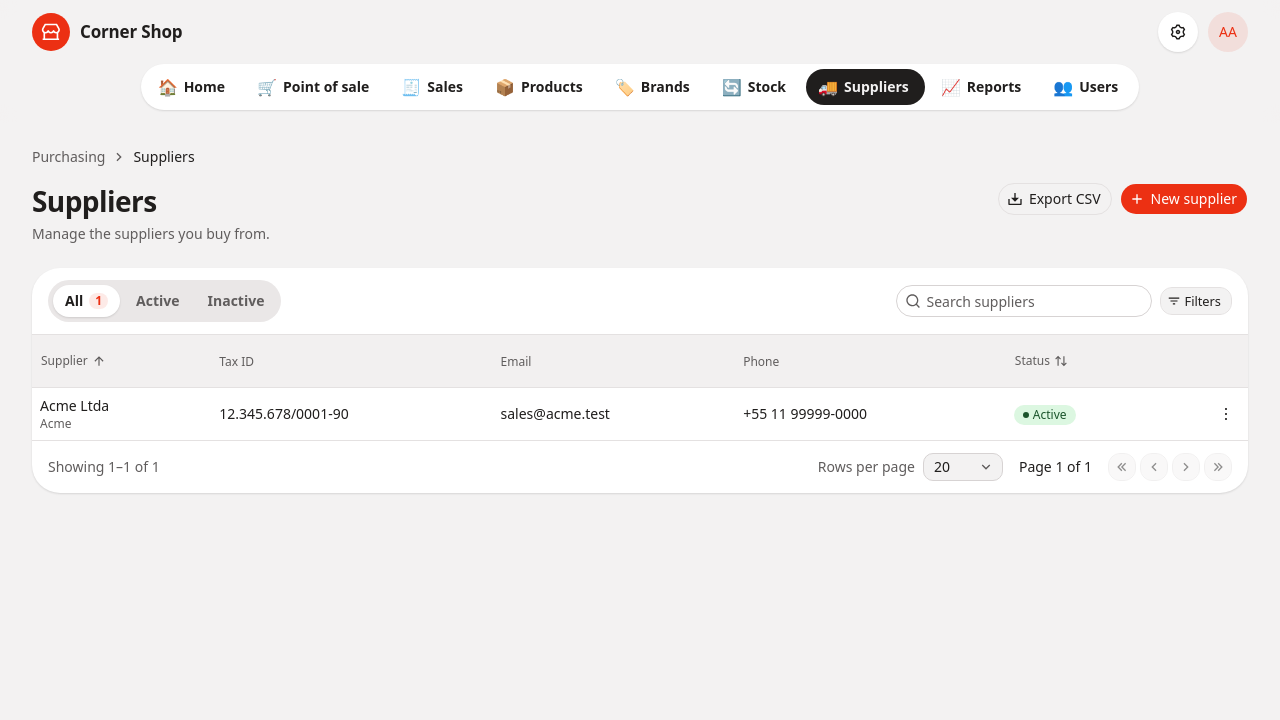
Test case: SupplierListPage › counts the tax ID filter on the Filters button
expect the link "Acme Ltda" is shown: met, box [40,396,109,415]
Step 1. Click the button "Filters" → point(1196, 301), box [1160,287,1232,315]
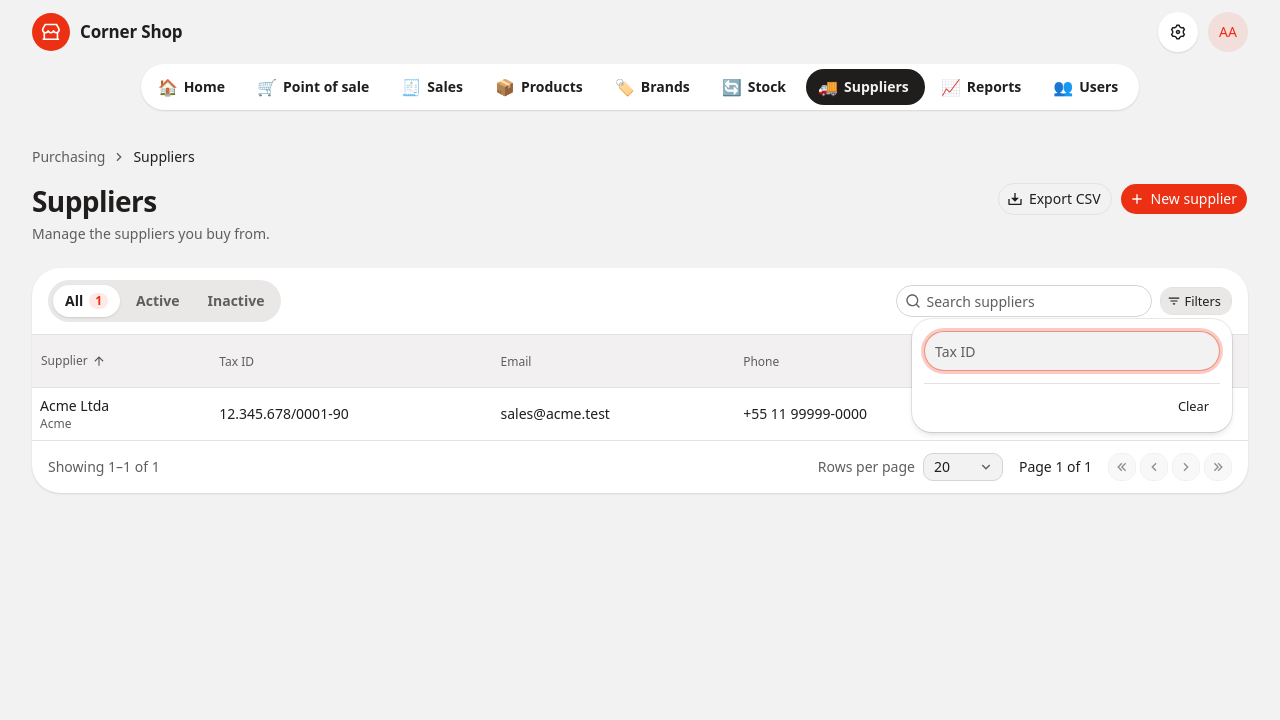
Step 2. Type "123" into the field labelled "Tax ID" → point(1072, 351), box [924,331,1220,371]
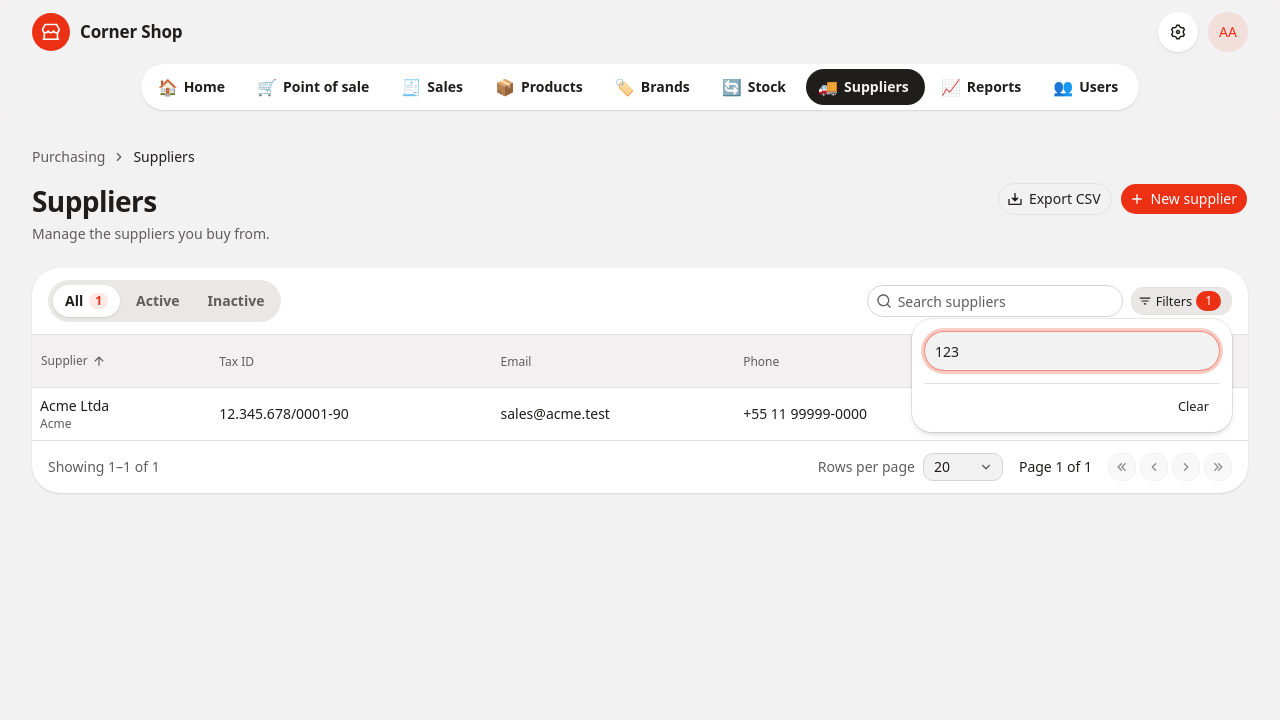
expect the button with aria-label "Filters (1)" is shown: met, box [1131,287,1232,315]
